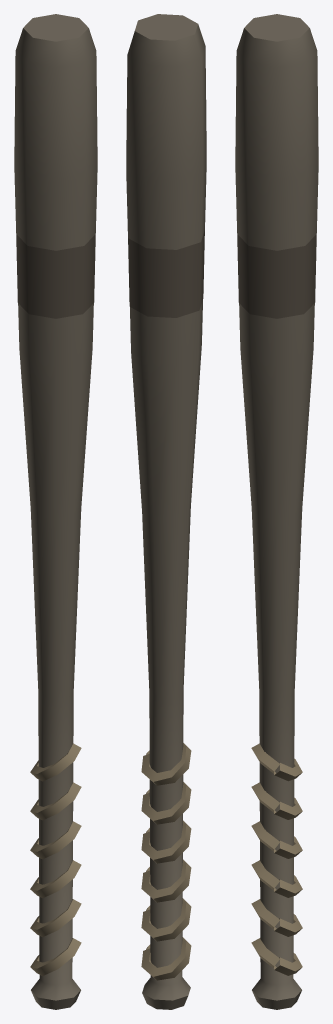
The model's file is bat.glb.
3 views of the same model, side by side, from view 1: azimuth 90°, elevation 25°; view 2: azimuth 150°, elevation 25°; view 3: azimuth 270°, elevation 25° (orthographic).
Visible parts, largest first — view 1: bat; view 2: bat; view 3: bat.
Part boxes in pixels (box(x1,y1,x2,y2)): bat: box(14, 14, 97, 1009); bat: box(126, 14, 206, 1009); bat: box(235, 14, 318, 1009).
Bounding box in the file's own units: 0.066 × 0.85 × 0.066.
